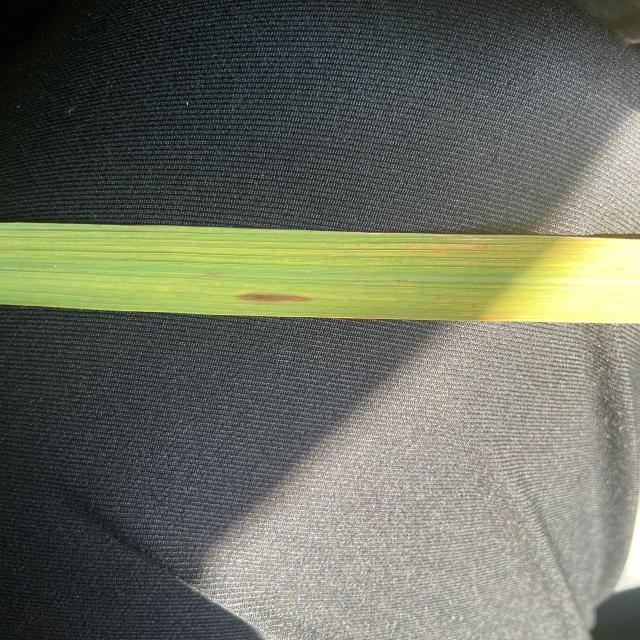Dom nau: (236, 294, 312, 301)
